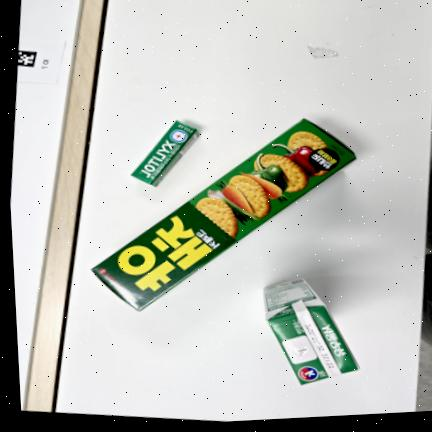cracker_vege: (91, 119, 356, 311)
gum_green: (131, 121, 199, 186)
milk_green: (263, 278, 359, 385)
